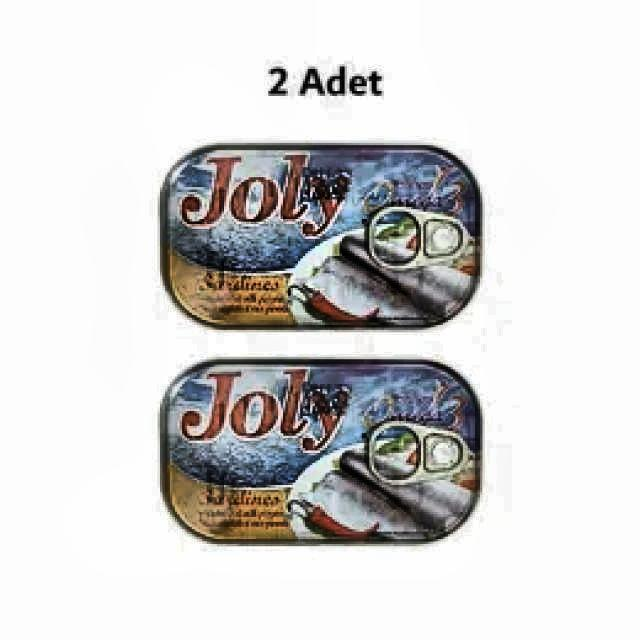metal: (156, 139, 485, 332), (156, 357, 485, 548)
